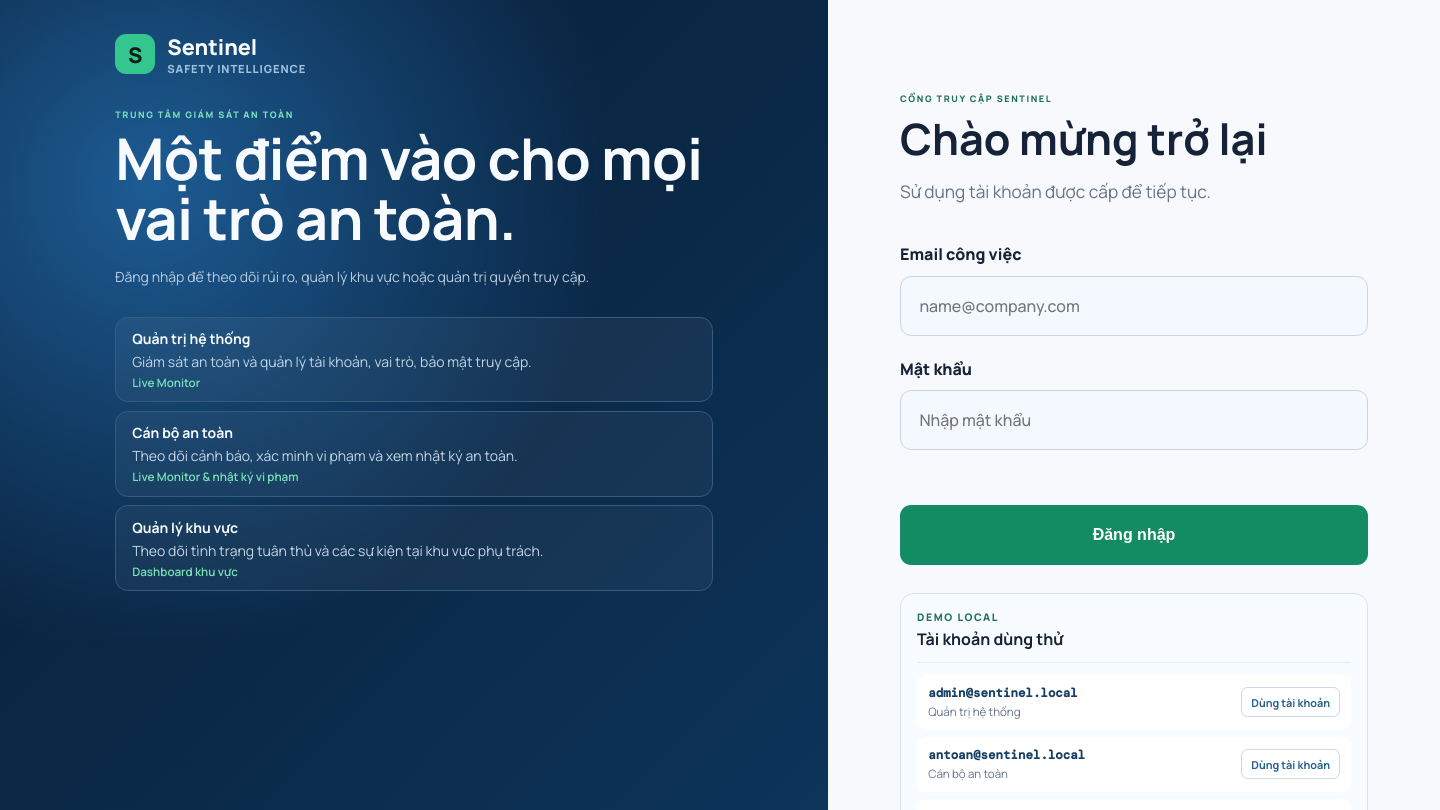
Scenario: Sentinel authentication › opens the application after the API accepts credentials
The image size is (1440, 810).
Expected: the button "Đăng nhập" is shown, top-left (900, 505), bottom-right (1368, 565)
In the field labelled "Email công việc": point(1134, 306) top-left (900, 276), bottom-right (1368, 336), type "antoan@sentinel.local"
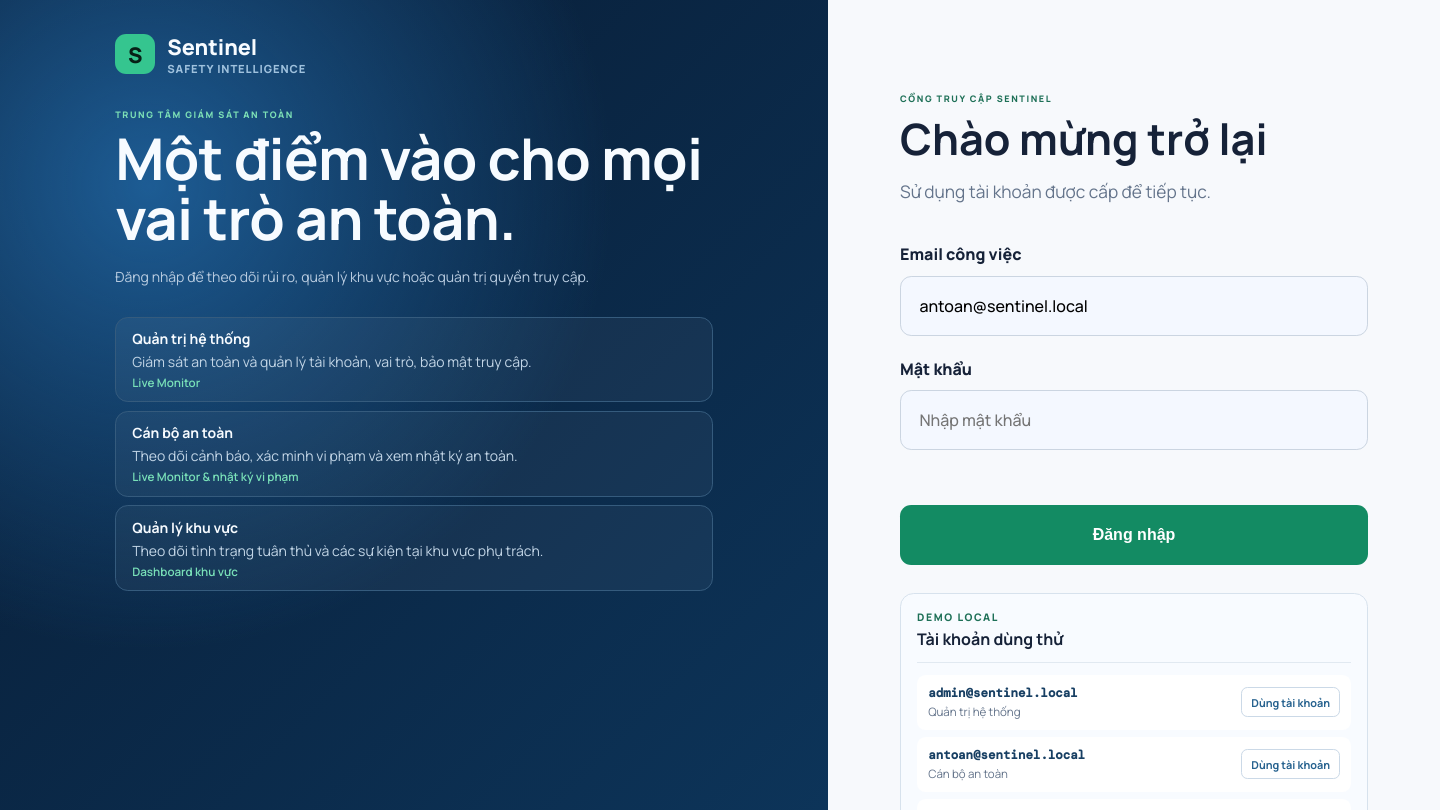
In the password field labelled "Mật khẩu": point(1134, 420) top-left (900, 390), bottom-right (1368, 450), type "Sentinel123!"
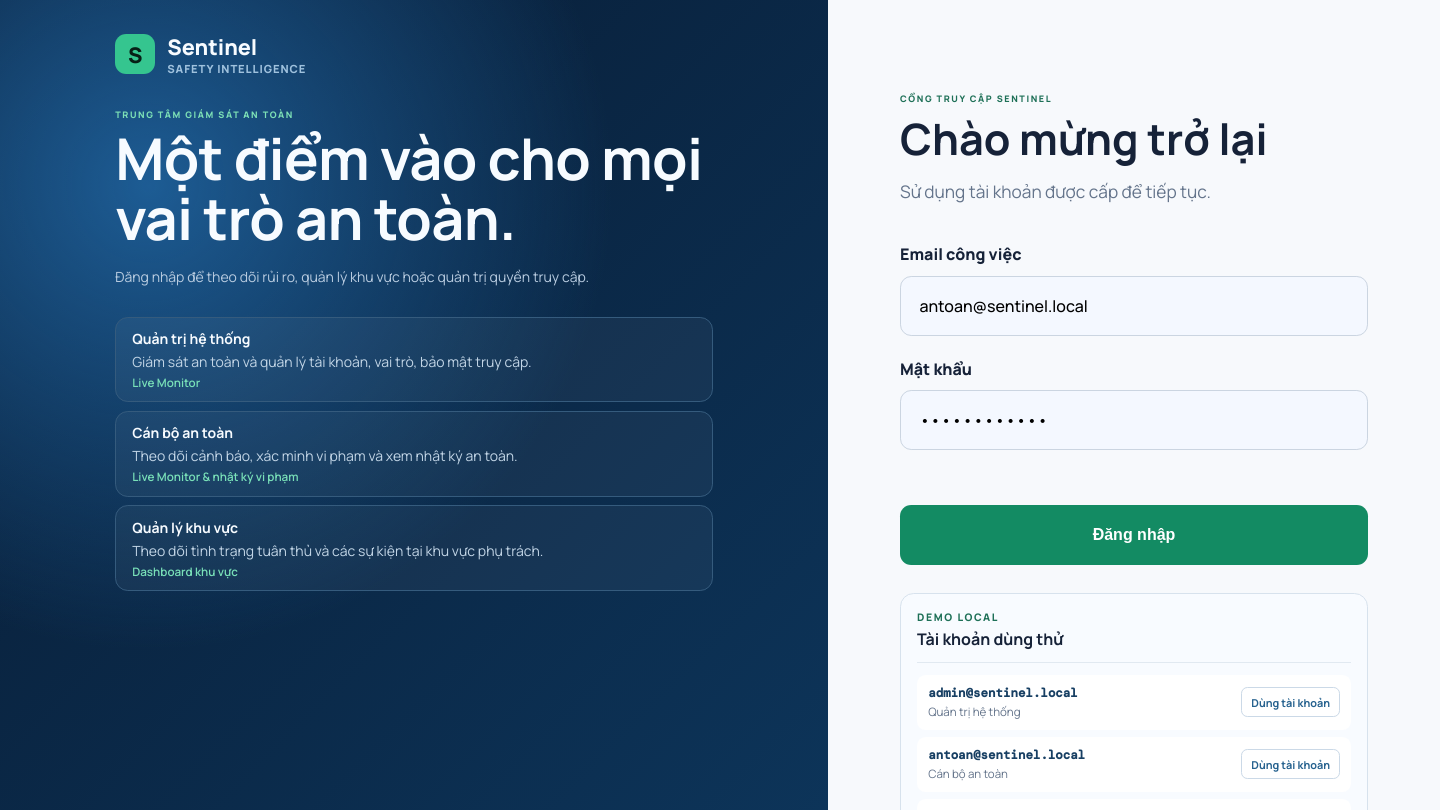
Click the button "Đăng nhập": point(1134, 535) top-left (900, 505), bottom-right (1368, 565)
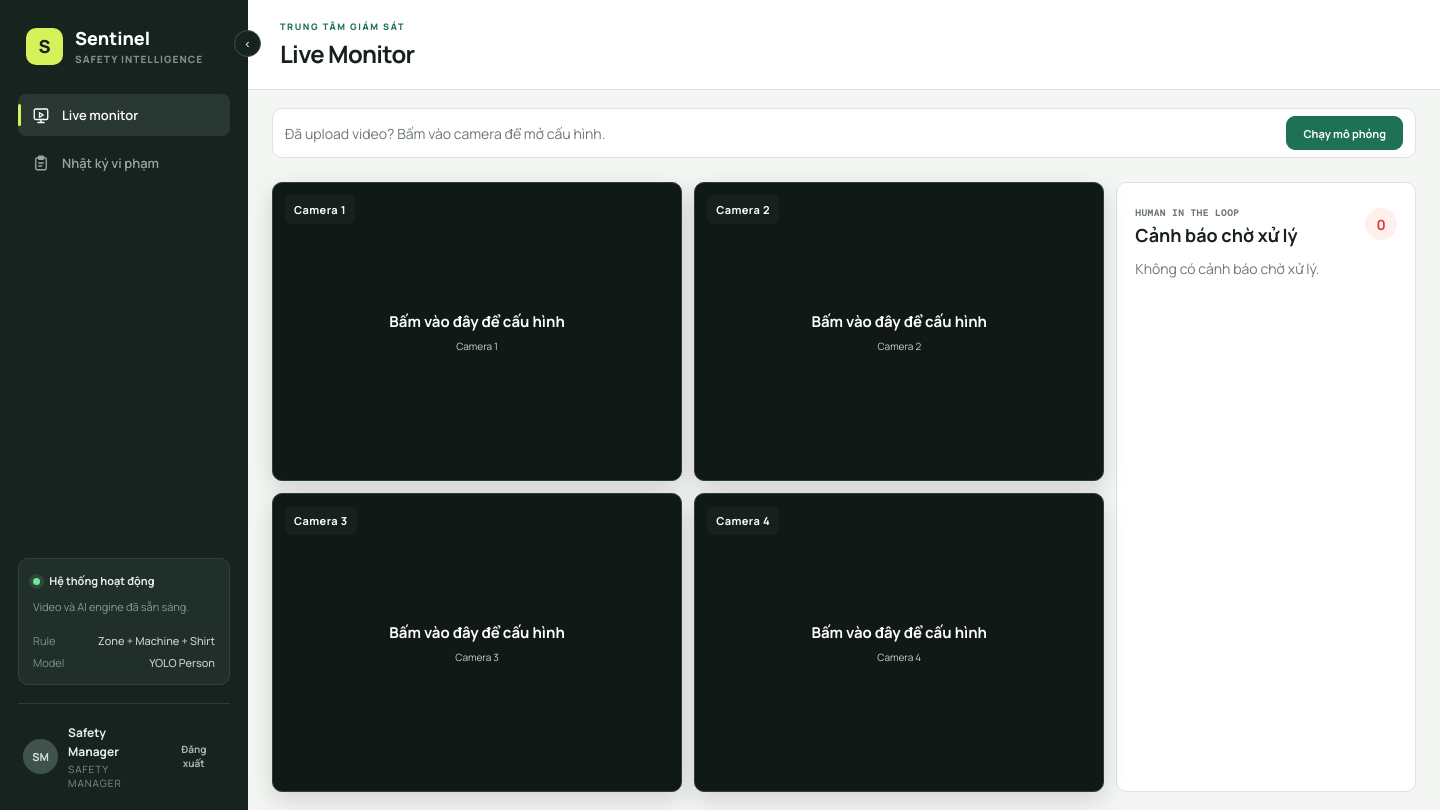
Now the heading "Live Monitor" is shown, box top-left (280, 36), bottom-right (414, 70)
